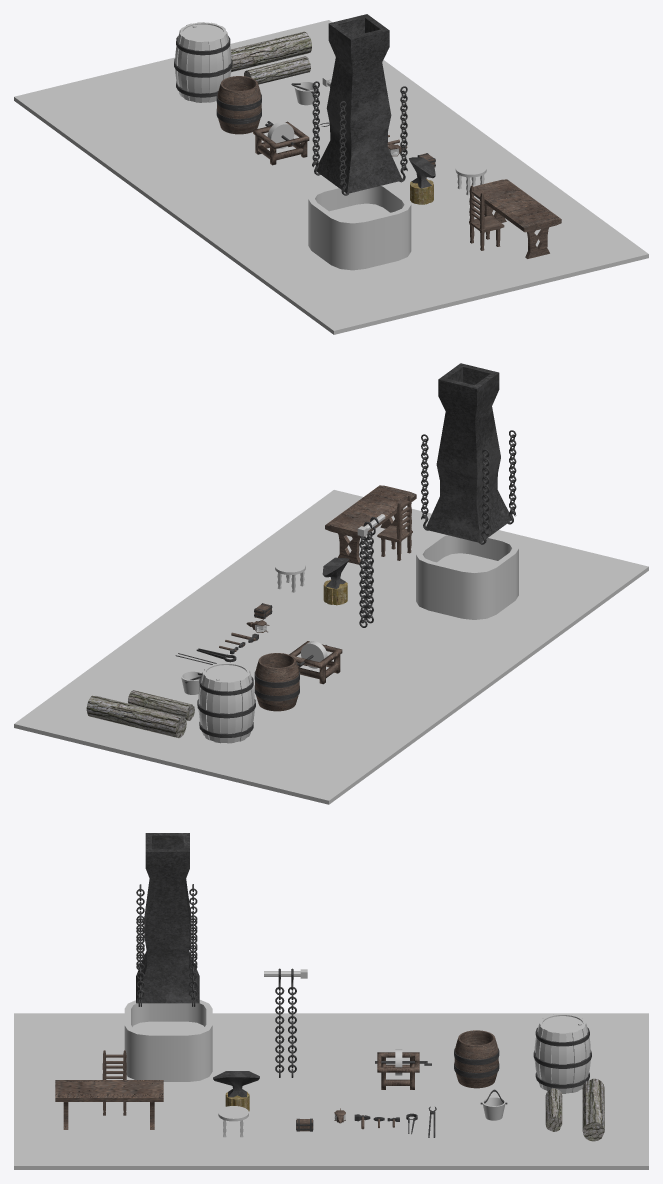
Rendered from blacksmith_metarials(1).fbx.
3 renders of one model, top to bottom at view 1: azimuth 30°, elevation 25°; view 2: azimuth 150°, elevation 25°; view 3: azimuth 270°, elevation 25°, orthographic.
Visible parts, largest first — view 1: Plane, chimney, oven, keg2, table, keg1, wood1, S_Stone_Platform, chair, wood2, sit, anvil (+4 smaller); view 2: Plane, chimney, oven, keg2, table, keg1, wood1, chair, S_Stone_Platform, wood2, sit; view 3: Plane, chimney, oven, keg2, table, keg1, wood1, S_Stone_Platform, anvil, wood2, chair, chain1 (+4 smaller).
Part boxes in pixels (x1=…): Plane: x1=14, y1=20, x2=648, y2=334; chimney: x1=316, y1=14, x2=402, y2=193; oven: x1=308, y1=184, x2=411, y2=270; keg2: x1=174, y1=22, x2=232, y2=102; table: x1=473, y1=179, x2=561, y2=258; keg1: x1=216, y1=76, x2=261, y2=134; wood1: x1=231, y1=31, x2=311, y2=72; S_Stone_Platform: x1=253, y1=121, x2=309, y2=165; chair: x1=469, y1=185, x2=504, y2=250; wood2: x1=244, y1=56, x2=310, y2=84; sit: x1=455, y1=161, x2=486, y2=195; anvil: x1=409, y1=157, x2=435, y2=188; Plane: x1=14, y1=490, x2=648, y2=804; chimney: x1=425, y1=363, x2=511, y2=542; oven: x1=416, y1=533, x2=518, y2=619; keg2: x1=197, y1=662, x2=255, y2=743; table: x1=325, y1=485, x2=416, y2=564; keg1: x1=254, y1=653, x2=299, y2=711; wood1: x1=86, y1=695, x2=186, y2=738; chair: x1=377, y1=495, x2=412, y2=560; S_Stone_Platform: x1=289, y1=641, x2=342, y2=684; wood2: x1=128, y1=690, x2=194, y2=720; sit: x1=275, y1=559, x2=305, y2=592; Plane: x1=14, y1=1013, x2=648, y2=1169; chimney: x1=136, y1=833, x2=199, y2=1003; oven: x1=124, y1=1000, x2=212, y2=1081; keg2: x1=533, y1=1013, x2=591, y2=1093; table: x1=55, y1=1080, x2=163, y2=1129; keg1: x1=454, y1=1030, x2=499, y2=1088; wood1: x1=582, y1=1078, x2=604, y2=1141; S_Stone_Platform: x1=375, y1=1052, x2=431, y2=1089; anvil: x1=213, y1=1071, x2=259, y2=1097; wood2: x1=545, y1=1088, x2=562, y2=1131; chair: x1=102, y1=1050, x2=126, y2=1115; chain1: x1=288, y1=987, x2=296, y2=1077.
Size of the model in its own units: 1086 by 745 by 1910.
